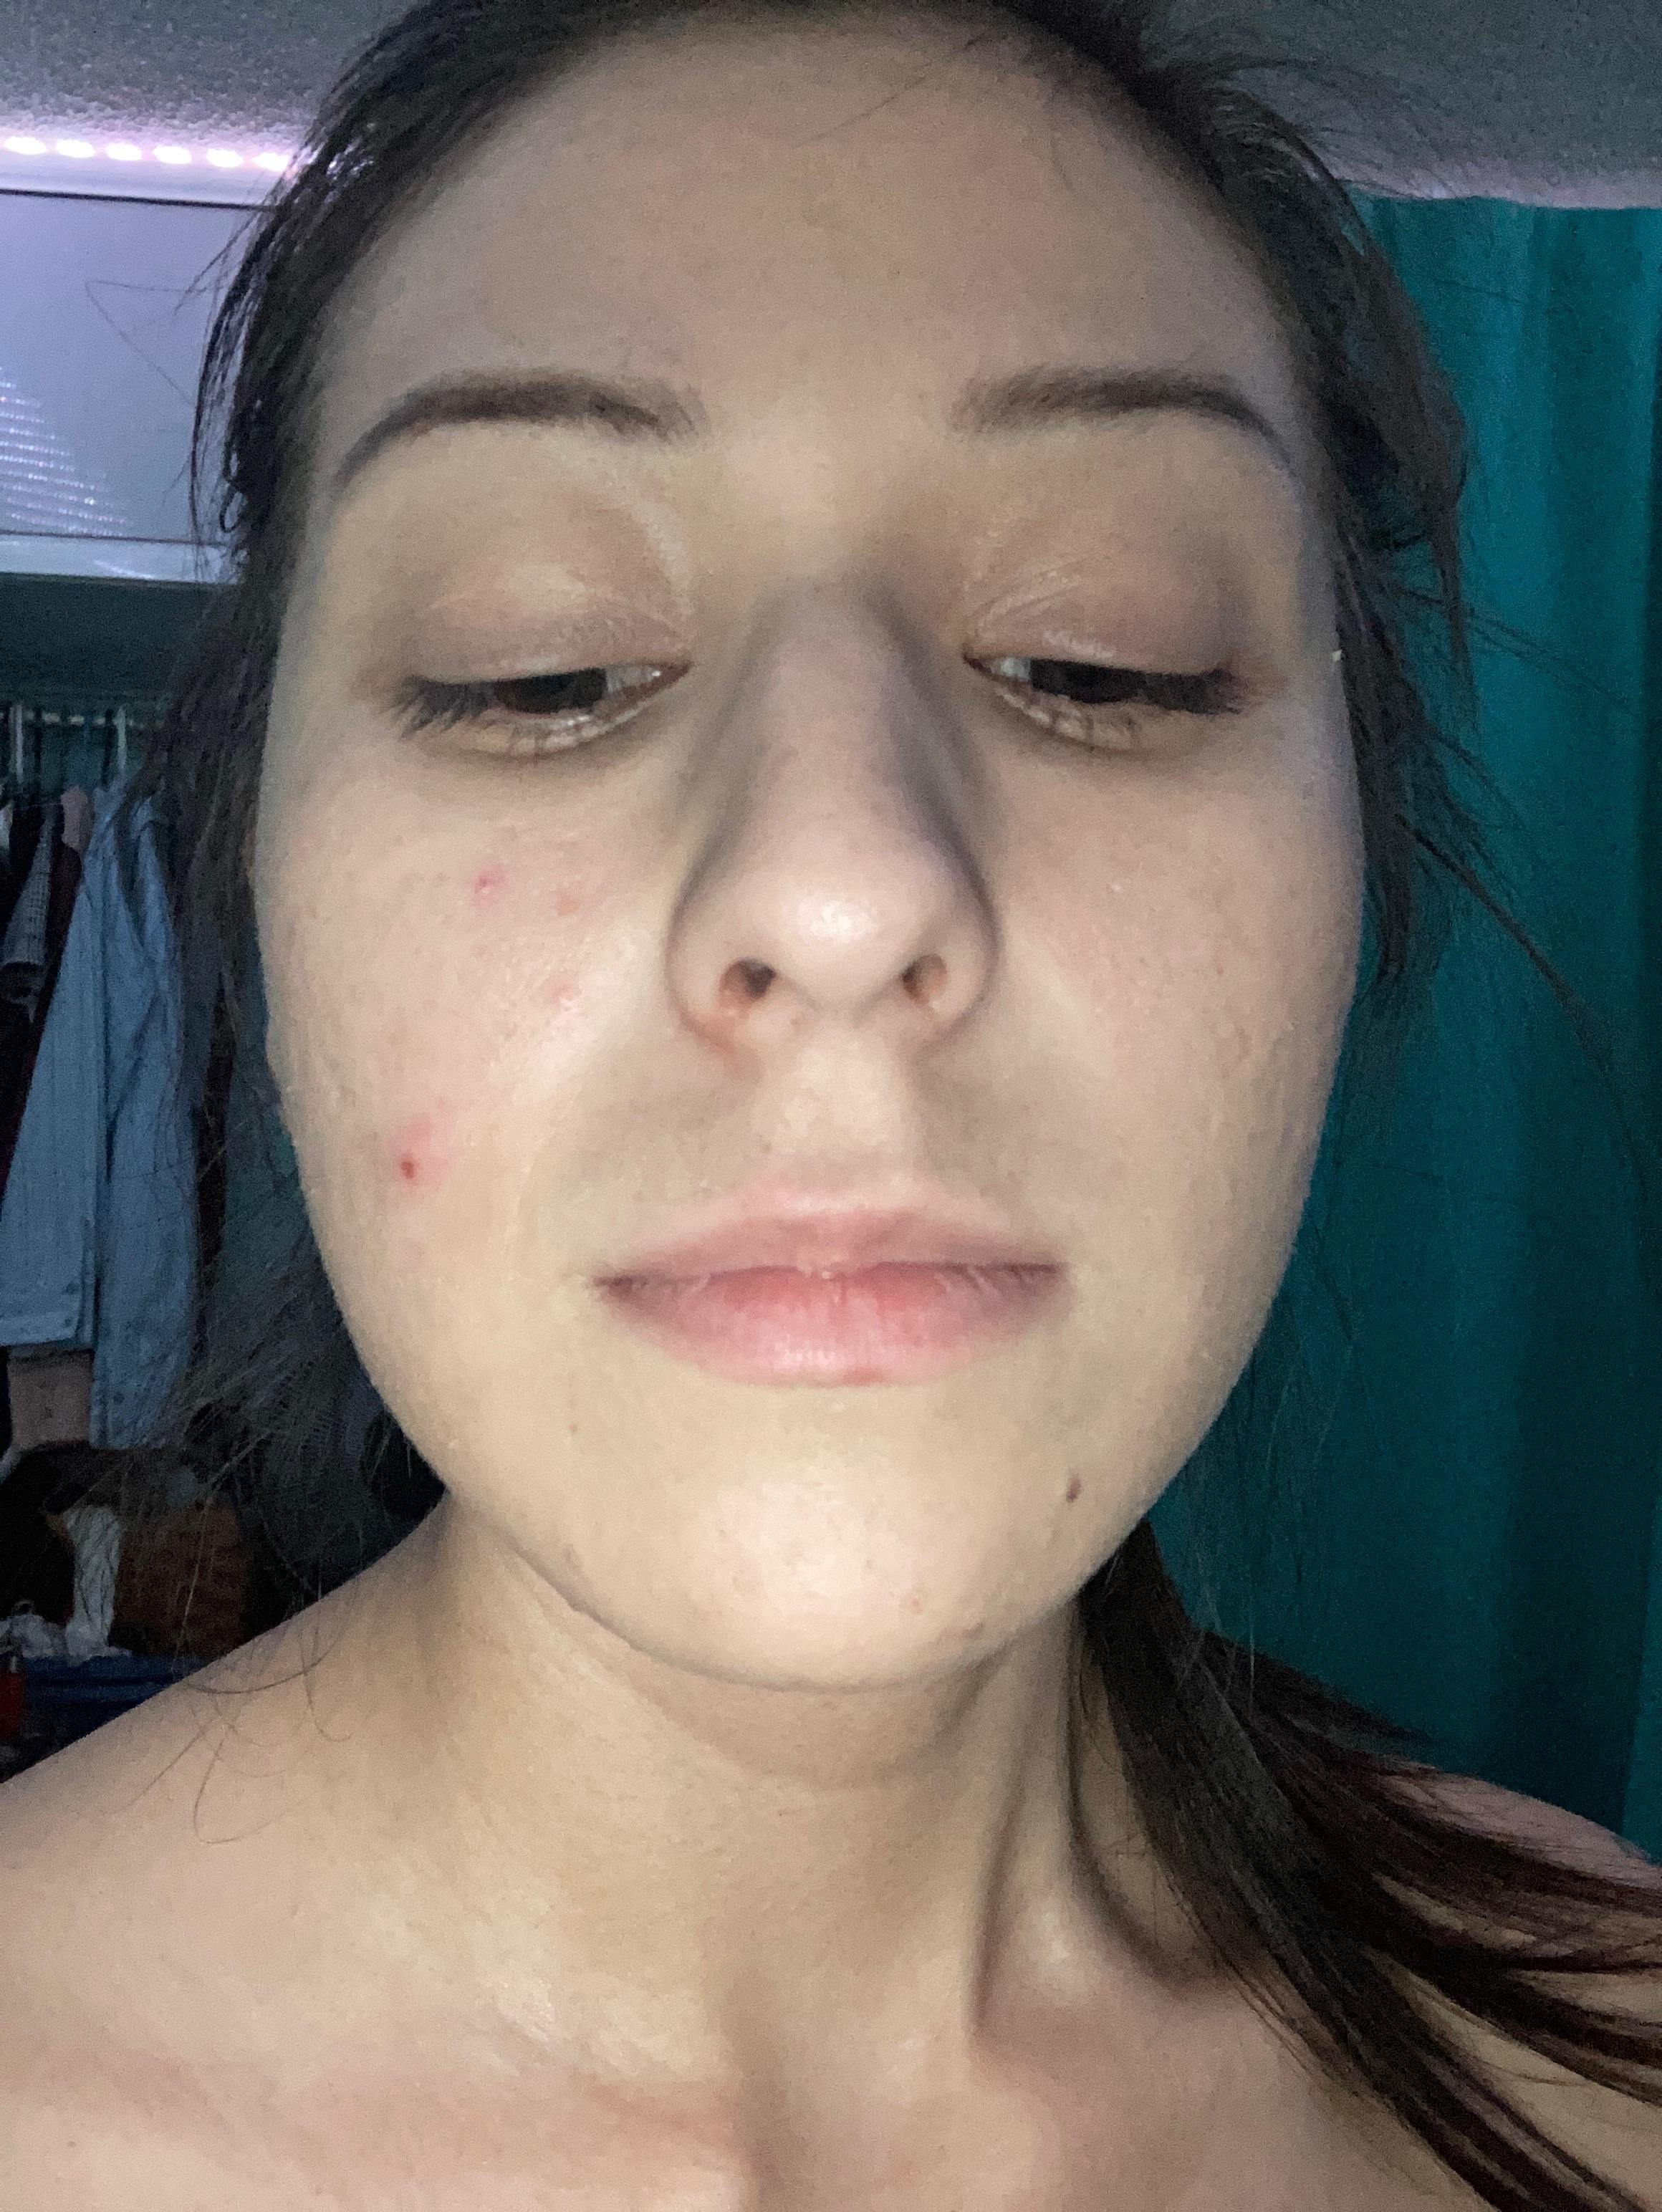Acne: (1212, 1002, 1292, 1137), (1306, 978, 1346, 1095), (1199, 904, 1243, 990), (384, 1138, 431, 1210), (485, 213, 550, 257), (545, 887, 588, 938), (536, 974, 585, 1014), (557, 1407, 601, 1451), (967, 1608, 1004, 1646), (470, 868, 498, 910), (557, 1531, 581, 1577), (861, 1549, 892, 1582), (908, 1582, 937, 1617), (801, 201, 819, 255), (1196, 1274, 1217, 1316), (1229, 1173, 1246, 1205), (1192, 1173, 1201, 1198)
Eyebags: (358, 677, 709, 805), (946, 641, 1206, 794)
